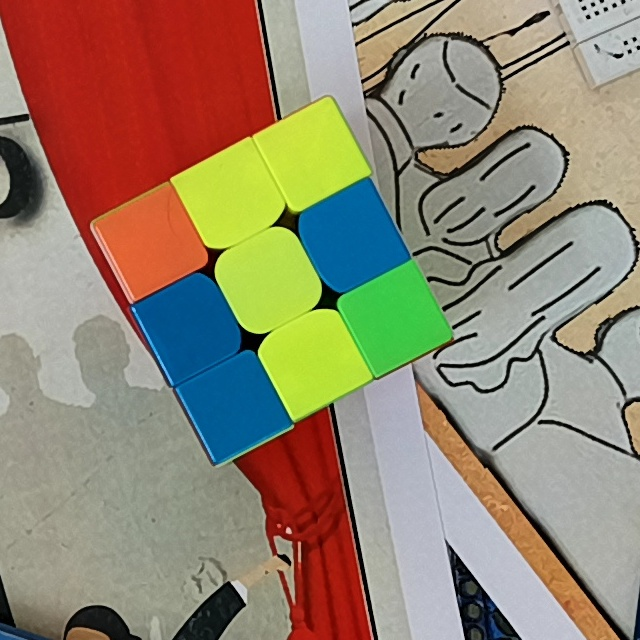tile: (320, 203, 386, 267), (237, 249, 302, 313), (117, 212, 183, 273), (363, 288, 427, 349), (282, 330, 346, 390), (281, 122, 343, 183), (201, 377, 265, 435), (161, 296, 220, 358), (200, 169, 263, 225)
